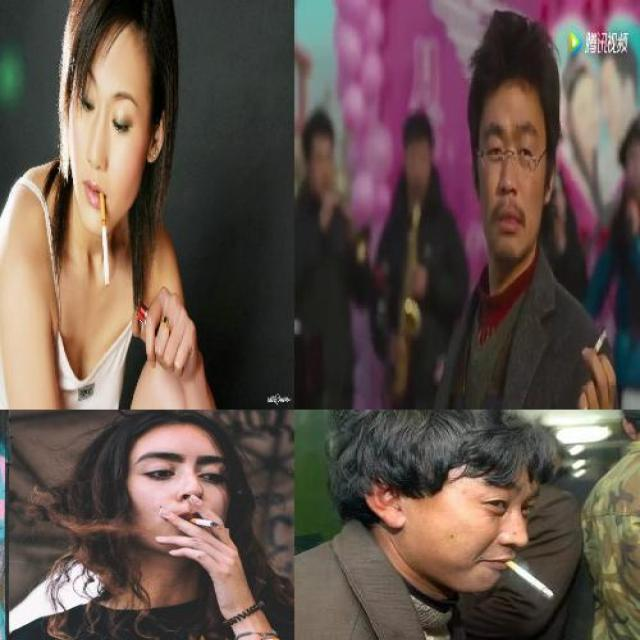smoking: (504, 560, 557, 601), (94, 184, 112, 288), (184, 509, 220, 528), (592, 327, 608, 357)
